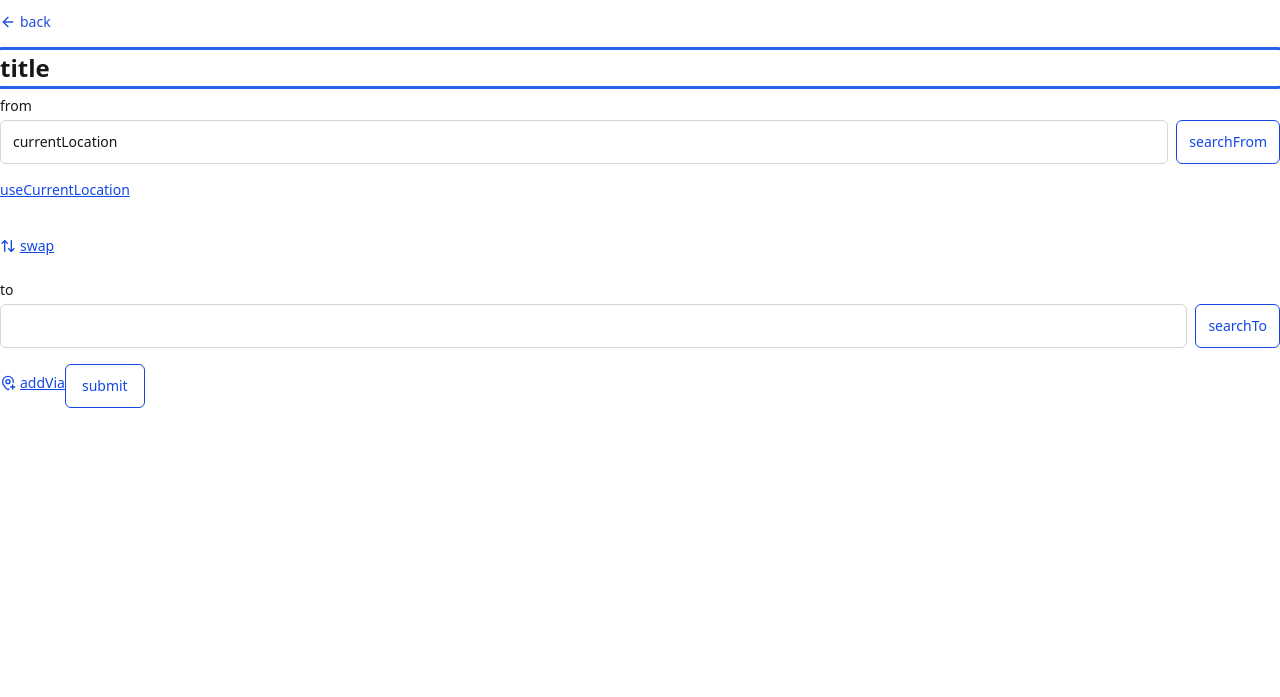
Test: A40 — 길찾기 뷰의 단일 polite 창구 › 안내 세션을 시작해도 채널은 그대로 하나이고, 세션 문장이 그 창구로 나온다
Replace the text in the field labelled "from" with "강남": (584,142) x1=0 y1=120 x2=1168 y2=164
Click the button "searchFrom": (1228,142) x1=1176 y1=120 x2=1279 y2=164
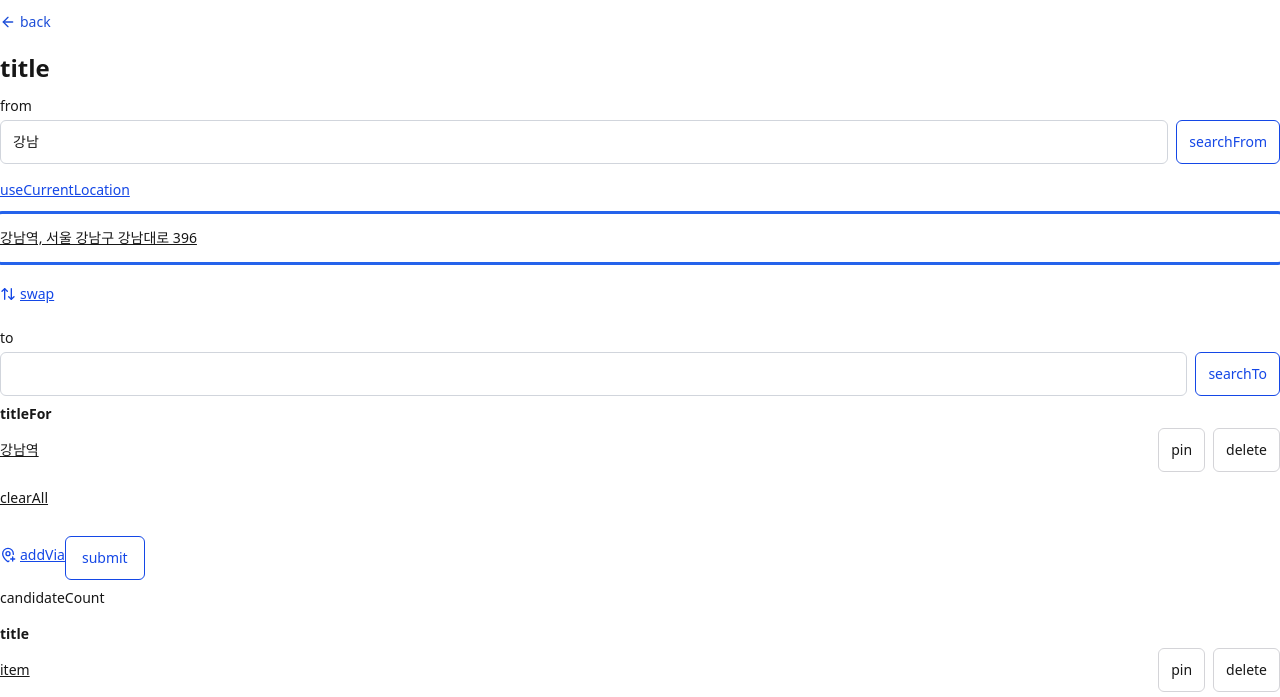
Click the button "강남역, 서울 강남구 강남대로 396": (98,238) x1=0 y1=216 x2=1279 y2=260
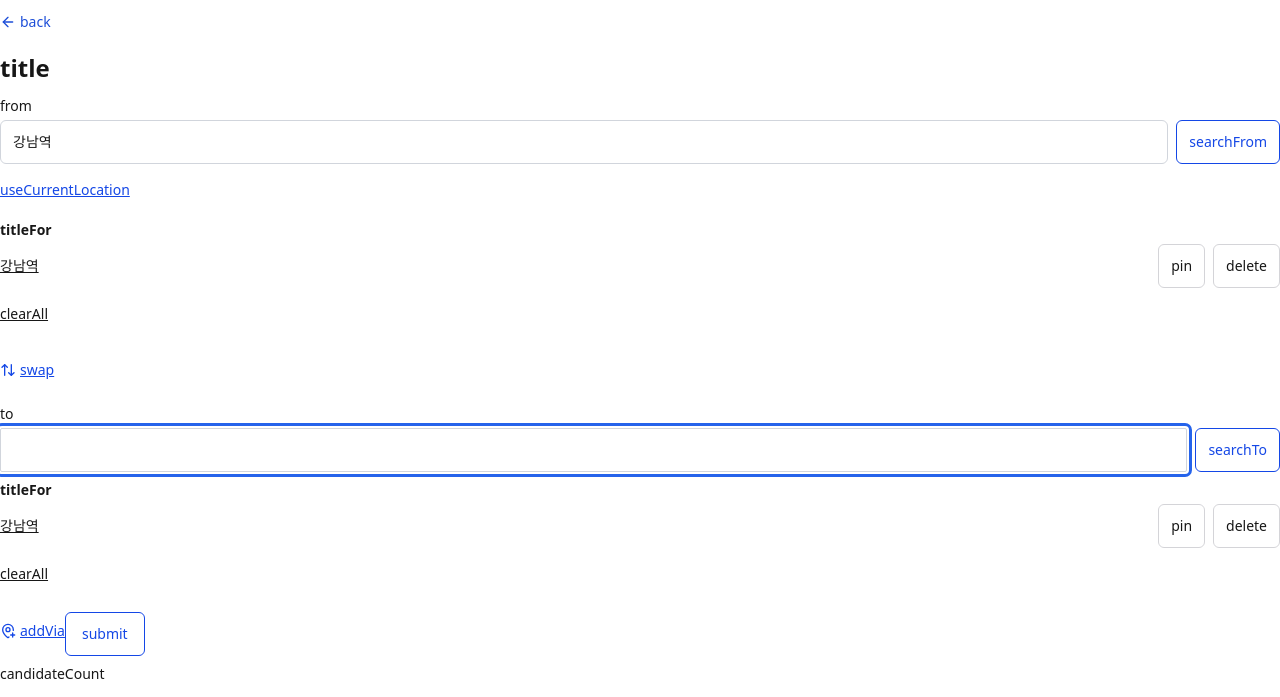
In the field labelled "to": (594,450) x1=0 y1=428 x2=1187 y2=472, type "강남"
Click the button "searchTo": (1238,450) x1=1195 y1=428 x2=1279 y2=472
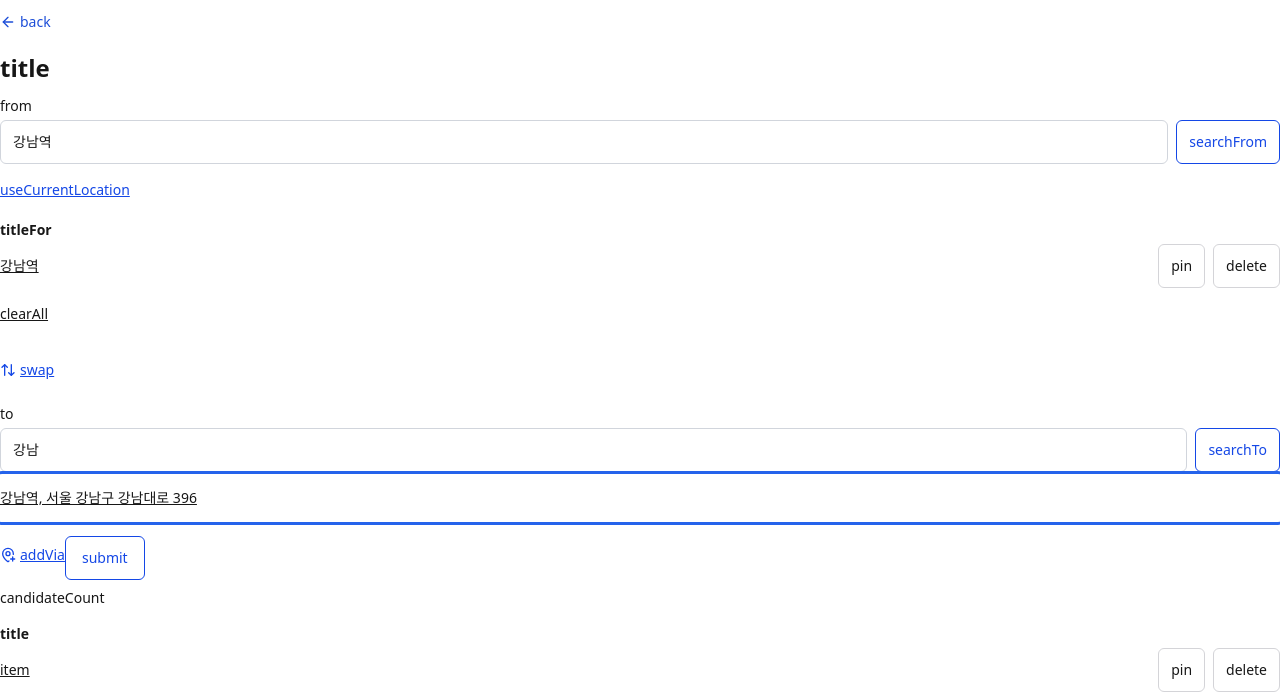
Click the button "강남역, 서울 강남구 강남대로 396": (98,498) x1=0 y1=476 x2=1279 y2=520
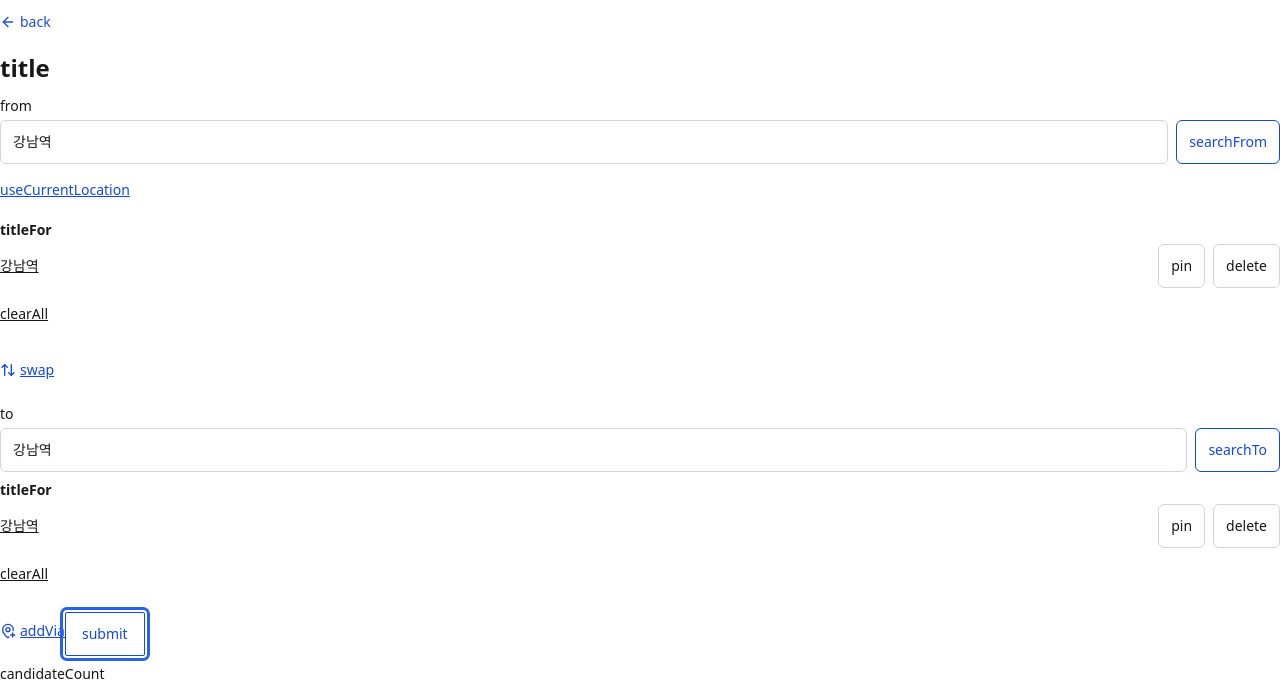
Click the button "submit": (105,634) x1=65 y1=612 x2=145 y2=656
(page scrolled)
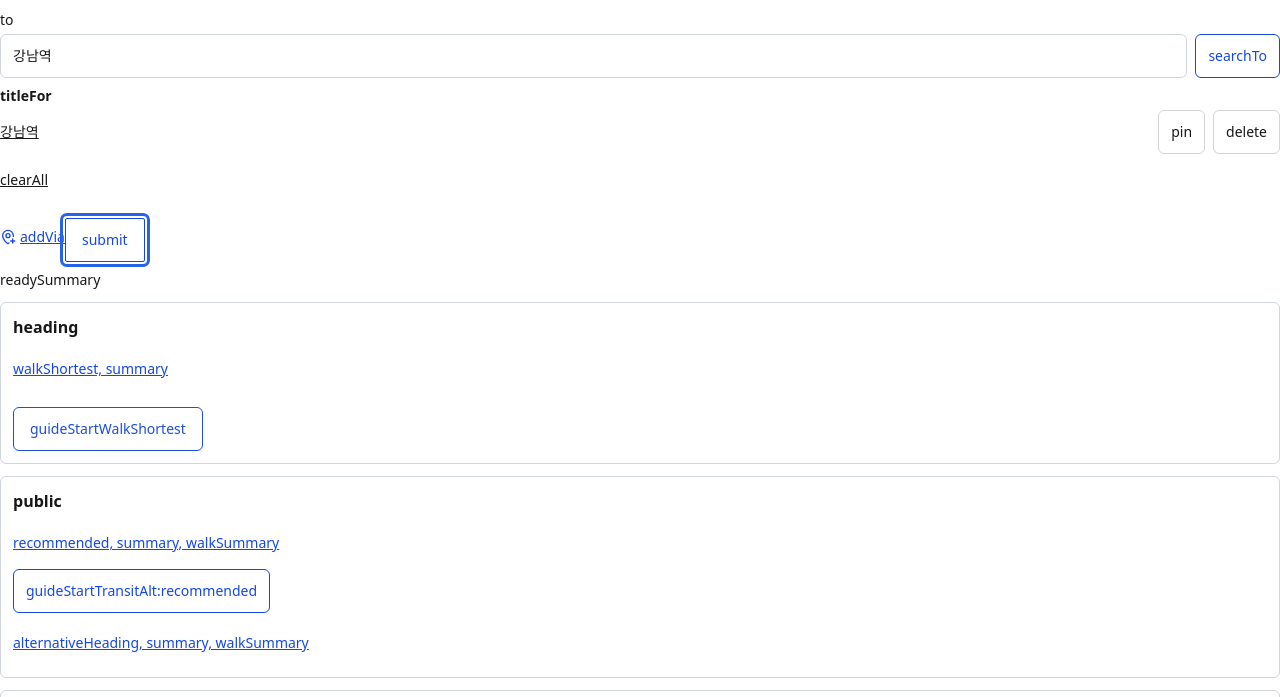
Result: the message reads "readySummary" at x1=0 y1=270 x2=100 y2=289
Click the button "guideStartTransitAlt:recommended": (142,591) x1=13 y1=569 x2=270 y2=613
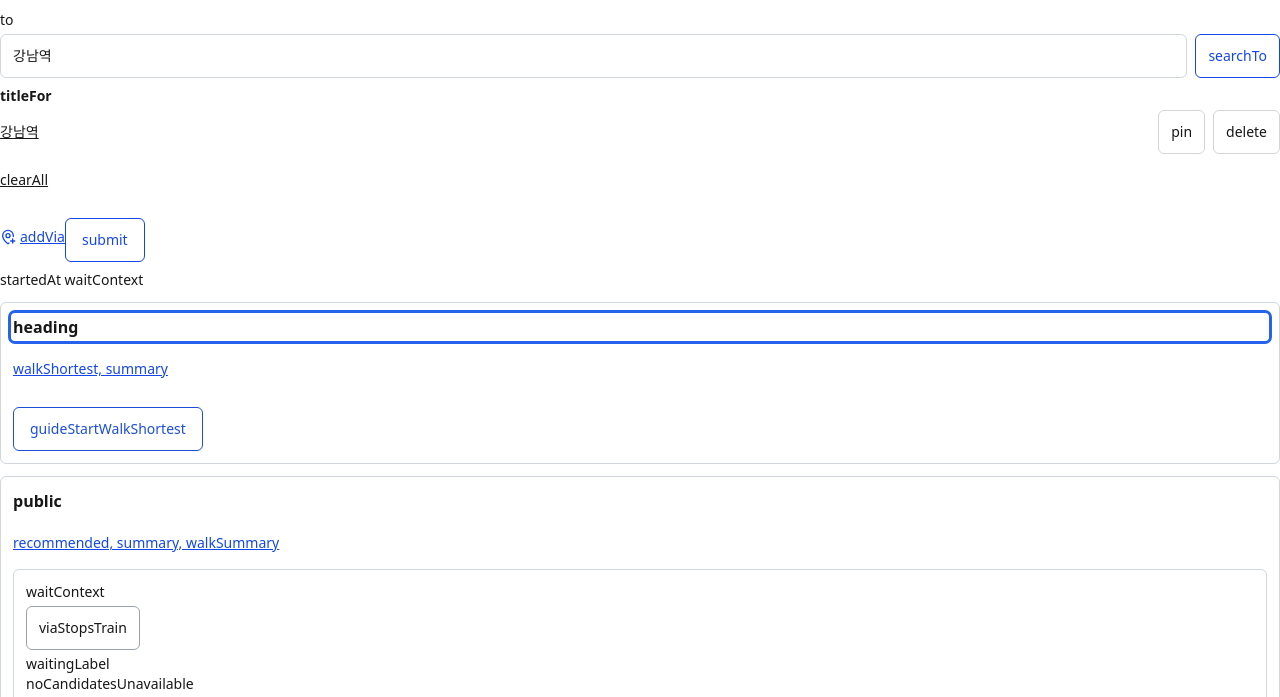
Expected: the number of messages is 1, x1=0 y1=270 x2=143 y2=289
Result: the message shows "startedAt" at x1=0 y1=270 x2=143 y2=289
